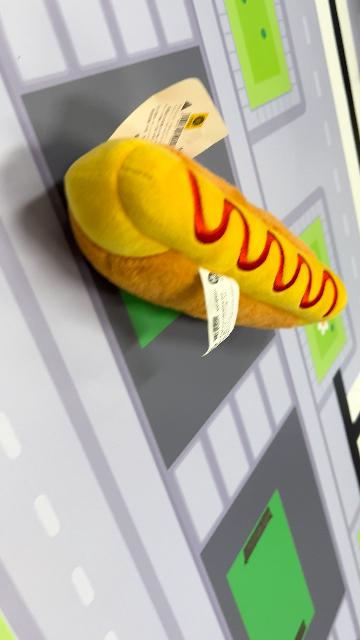hotdog: (63, 136, 349, 334)
